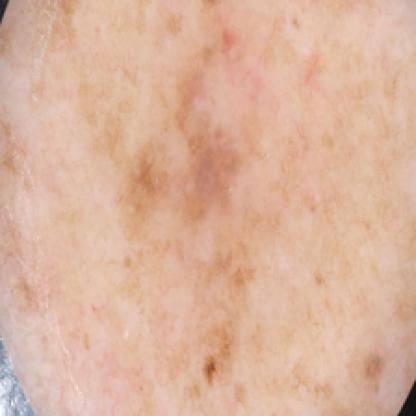malignant: (119, 82, 269, 215)
